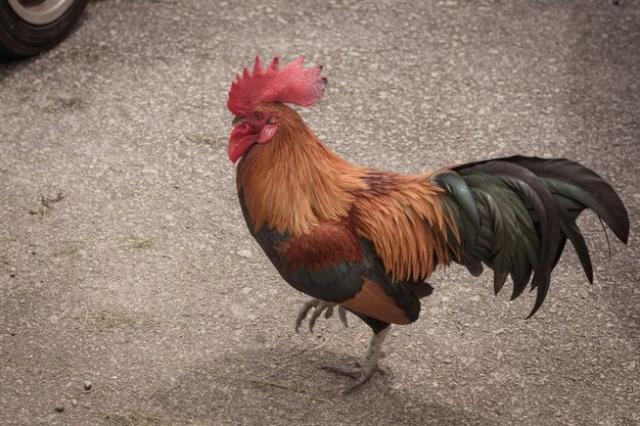Chicken: (227, 55, 628, 395)
